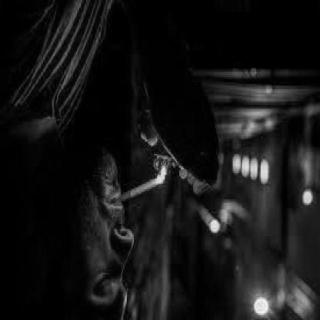Fire: (152, 159, 170, 196)
